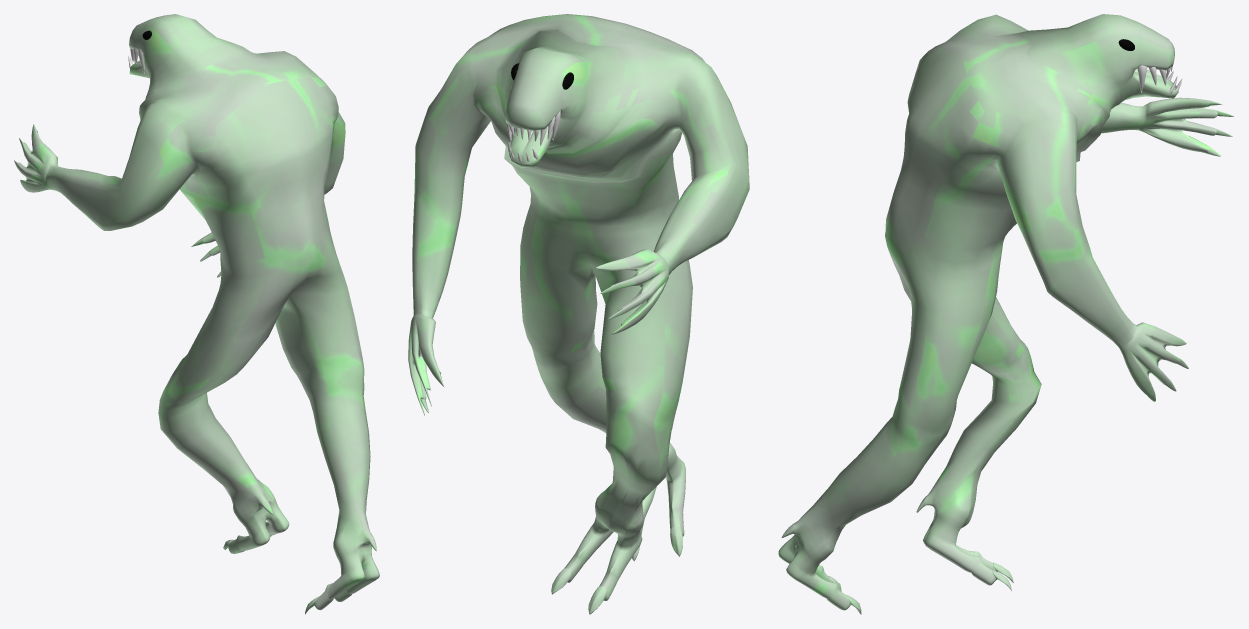
File: Berserkercorrer.0044.obj
3 views of the same model, side by side, from view 1: azimuth 30°, elevation 25°; view 2: azimuth 150°, elevation 25°; view 3: azimuth 270°, elevation 25° (orthographic). The views are drawn at different scales.
Visible parts, largest first — view 1: polySurface27; view 2: polySurface27; view 3: polySurface27.
Boxes of the visible parts, left/top/right/bottom form: polySurface27: left=14, top=14, right=379, bottom=614; polySurface27: left=408, top=14, right=749, bottom=614; polySurface27: left=778, top=14, right=1233, bottom=614.
Size of the model in its own units: 11.64 by 22.37 by 16.09.
Materials: 1 (1 with a texture image).
